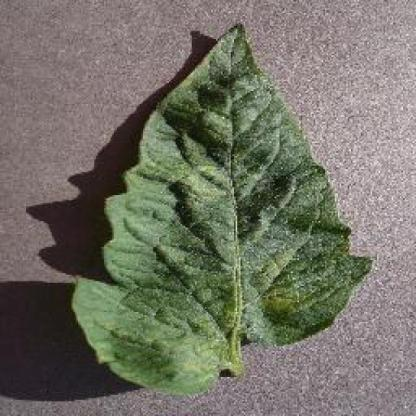Tomato_Spider_Mites: (72, 26, 370, 392)
